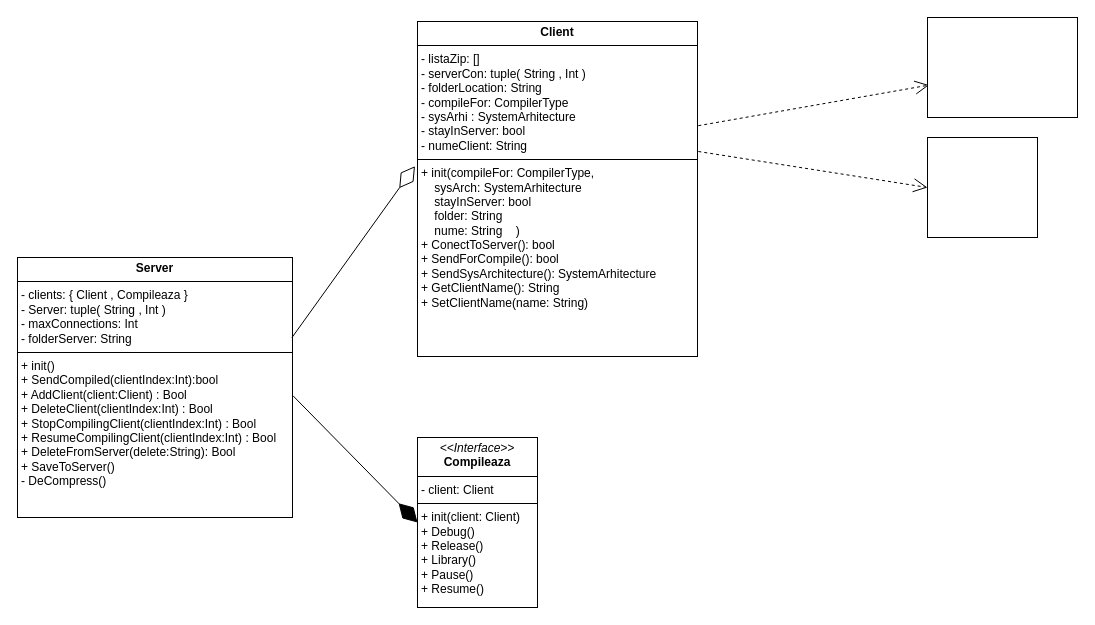
Image size: 1095x625. Some labels were removed from this diagram. The shapes that lost their labels are listed below. From the top down, each one's centre as x and y in pixels, then its label:
point 1002,67: <<enumeration>> SystemArhitecture x86_64 arm64 aarch_64
point 982,187: <<enumeration>> CompilerType RELEASE DEBUG LIBRARY
